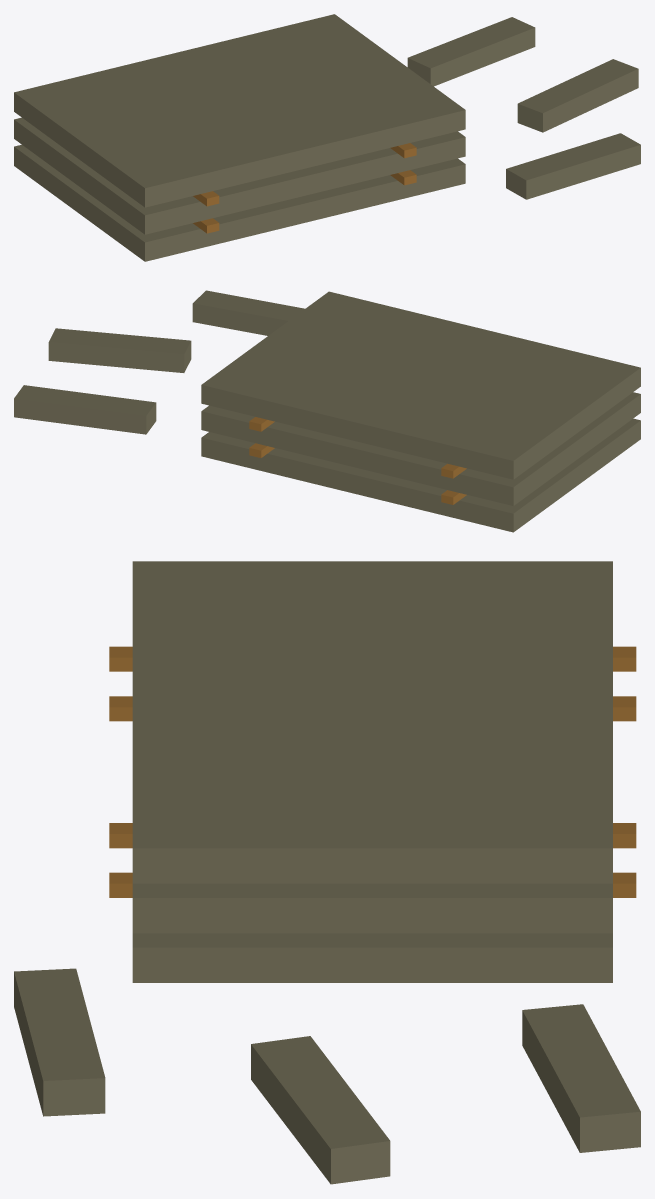
File: SM_TraviesasSueltas_v4_Quemadas_LOD1.fbx
3 renders of one model, top to bottom at view 1: azimuth 30°, elevation 25°; view 2: azimuth 150°, elevation 25°; view 3: azimuth 270°, elevation 25°, orthographic. The views are drawn at different scales.
Parts seen in each view (by area): view 1: SM_traviesas_sueltas_v4_LOD1; view 2: SM_traviesas_sueltas_v4_LOD1; view 3: SM_traviesas_sueltas_v4_LOD1.
Part boxes in pixels (x1,y1,x2,y2): SM_traviesas_sueltas_v4_LOD1: (14, 14, 640, 261); SM_traviesas_sueltas_v4_LOD1: (14, 290, 640, 532); SM_traviesas_sueltas_v4_LOD1: (14, 561, 640, 1184).
Size of the model in its own units: 4.44 by 0.57 by 2.4.
